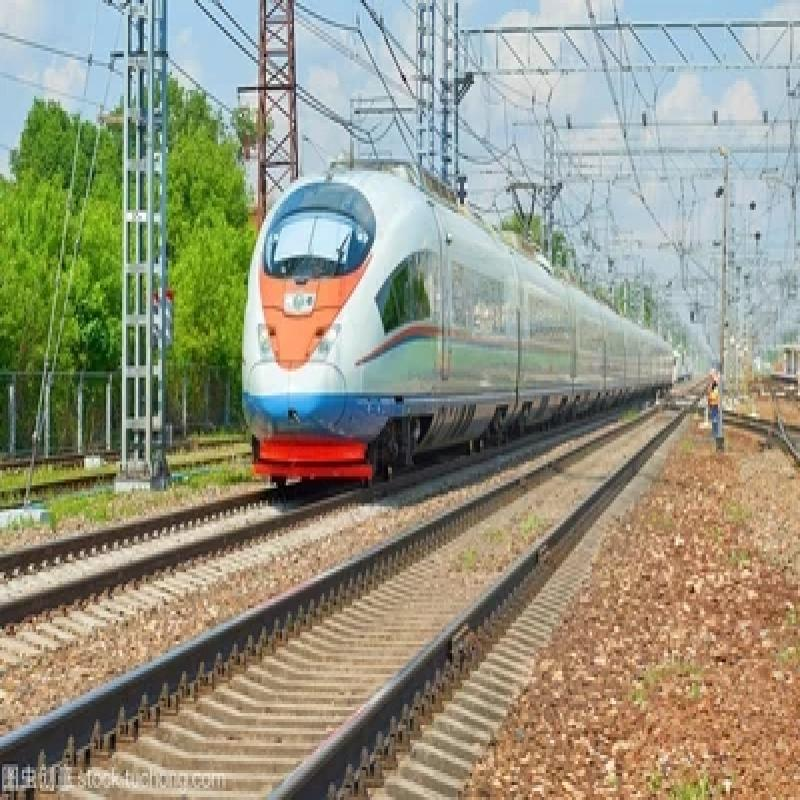train: (229, 154, 681, 480)
